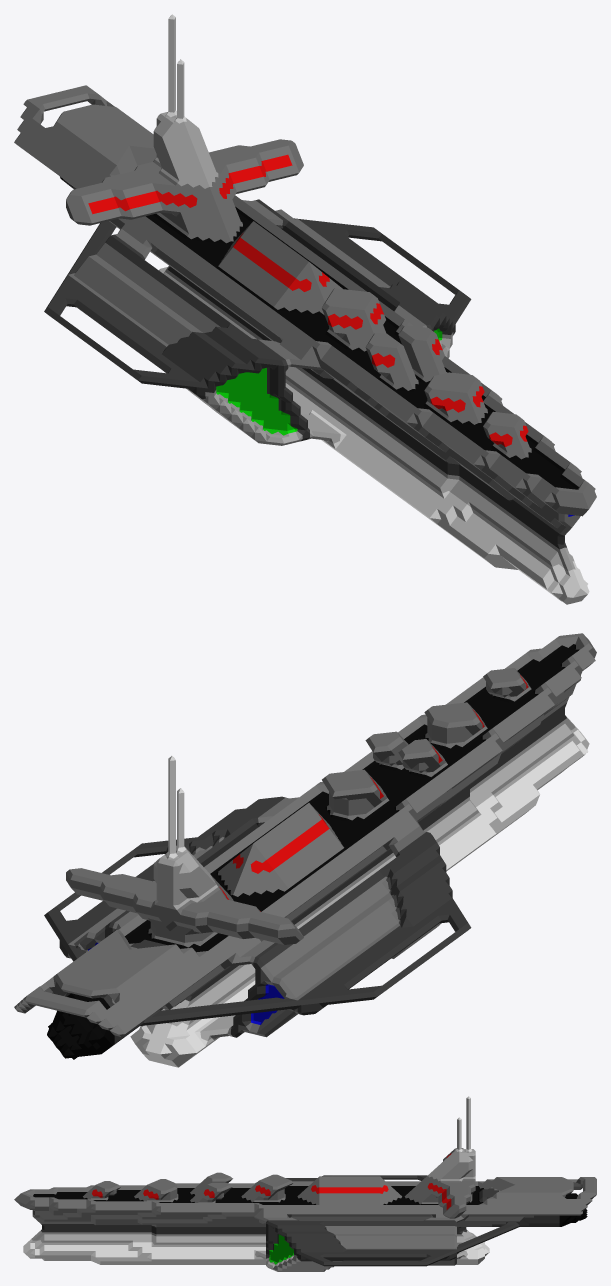
Rendered from ship_federation_0.fbx.
3 views of the same model, one above another, from view 1: azimuth 30°, elevation 25°; view 2: azimuth 150°, elevation 25°; view 3: azimuth 270°, elevation 25° (orthographic). The views are drawn at different scales.
Visible parts, largest first — view 1: ship_federation_0; view 2: ship_federation_0; view 3: ship_federation_0.
Part boxes in pixels (<box>): ship_federation_0: <box>14,14,596,604</box>; ship_federation_0: <box>14,633,596,1067</box>; ship_federation_0: <box>14,1096,596,1271</box>.
Bounding box in the file's own units: 4500 × 3900 × 12500.
